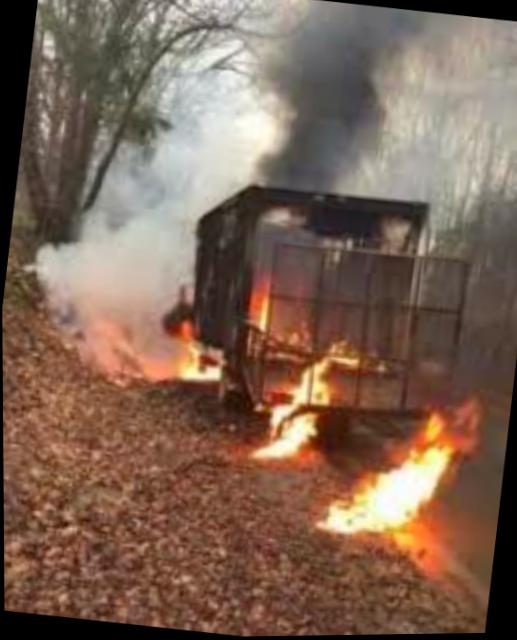fire: (311, 382, 494, 571), (246, 330, 366, 477), (146, 302, 241, 402), (226, 272, 293, 332)
